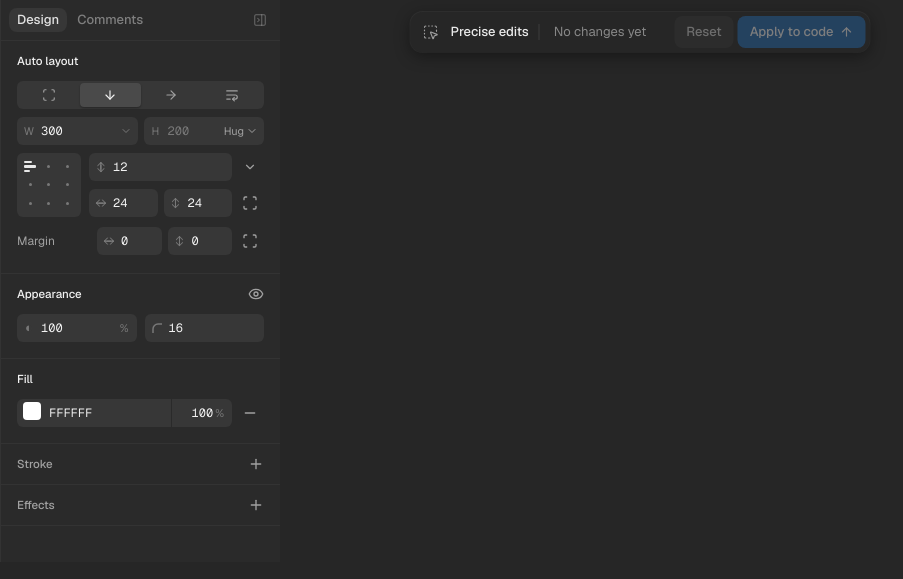
Test: edits the selected element from where its frame showed it
Click the button named "Hide".
click(256, 294)  # box [242,280,270,308]
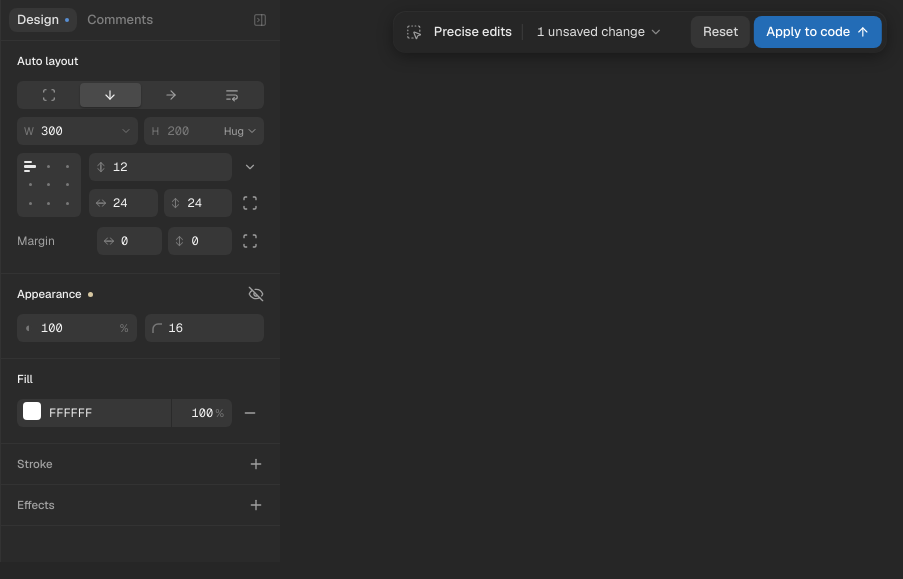
Expected: the element that starts with "Precise edits" shows "1 unsaved change"
